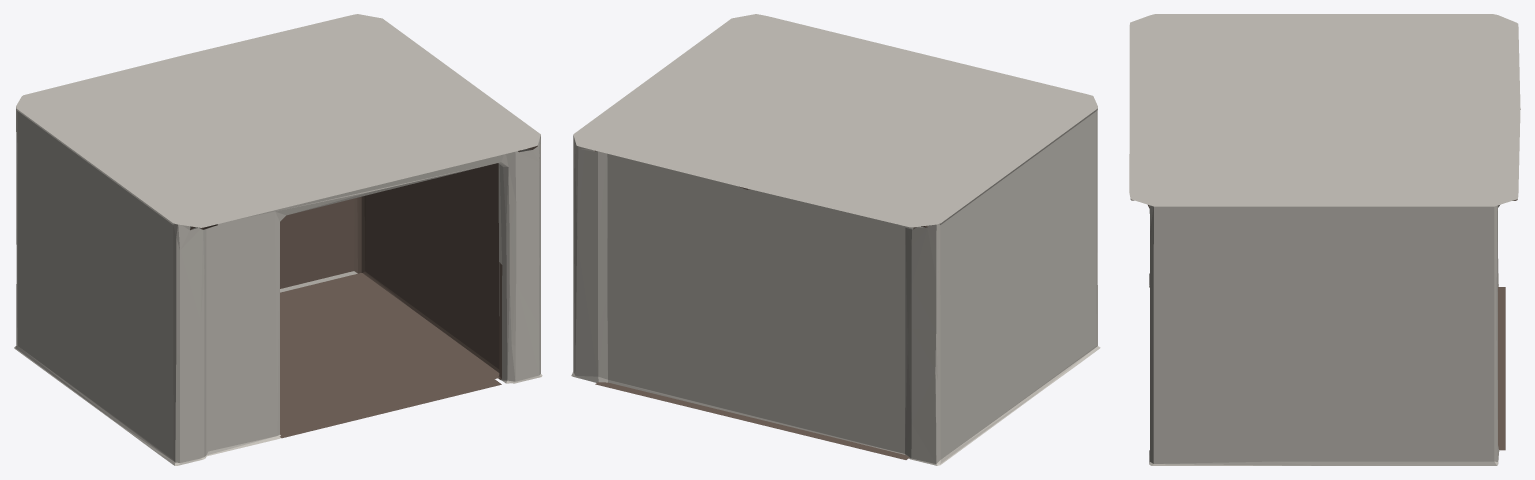
Rendered from etape-1.glb.
3 views of the same model, side by side, from view 1: azimuth 30°, elevation 25°; view 2: azimuth 150°, elevation 25°; view 3: azimuth 270°, elevation 25° (orthographic). The views are drawn at different scales.
Visible parts, largest first — view 1: geometry_0; view 2: geometry_0; view 3: geometry_0.
Boxes of the visible parts, left/top/right/bottom form: geometry_0: left=14, top=14, right=542, bottom=465; geometry_0: left=571, top=14, right=1100, bottom=465; geometry_0: left=1129, top=14, right=1520, bottom=465.
Bounding box in the file's own units: 0.8452 × 0.5276 × 0.7221.
